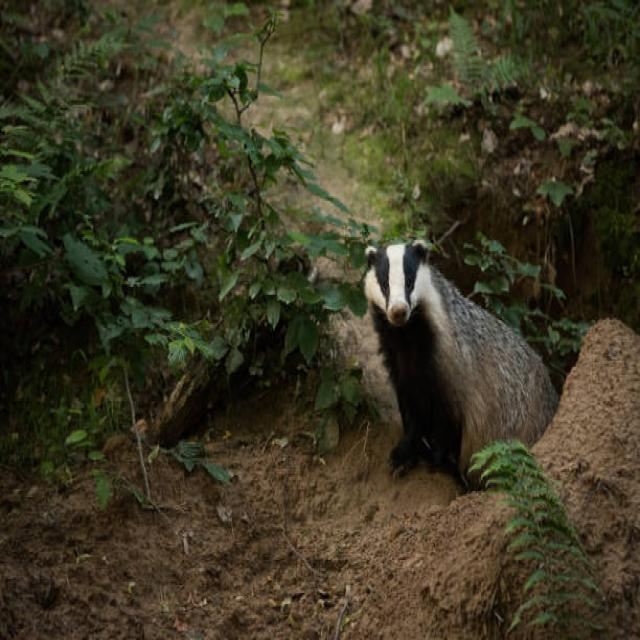Badger: (360, 236, 553, 484)
